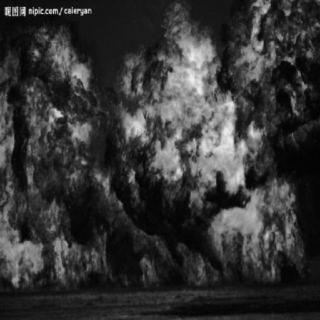Fire: (0, 23, 308, 281)
